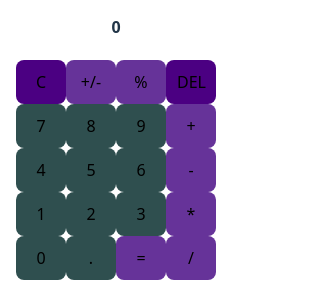
CalcArea integration › muestra ERROR al dividir entre 0
This screenshot has width=320, height=297.
Click the button "8": coordinates (91, 126) [66,104,116,148]
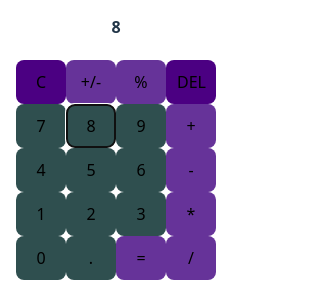
Click the button "/": coordinates (191, 258) [166,236,216,280]
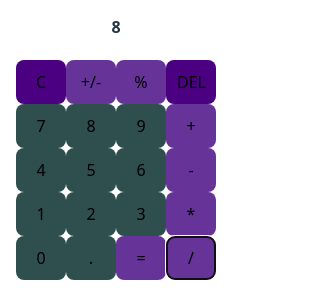
Click the button "0": coordinates (41, 258) [16,236,66,280]
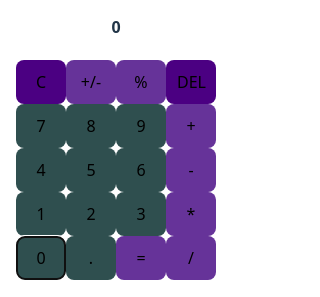
Click the button "=": coordinates (141, 258) [116,236,166,280]
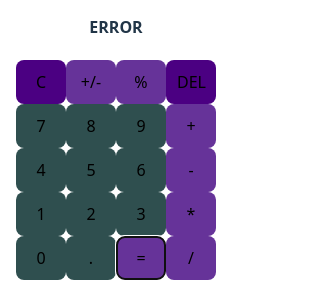
expect the heading "ERROR" is shown: met, box [89,16,143,38]
